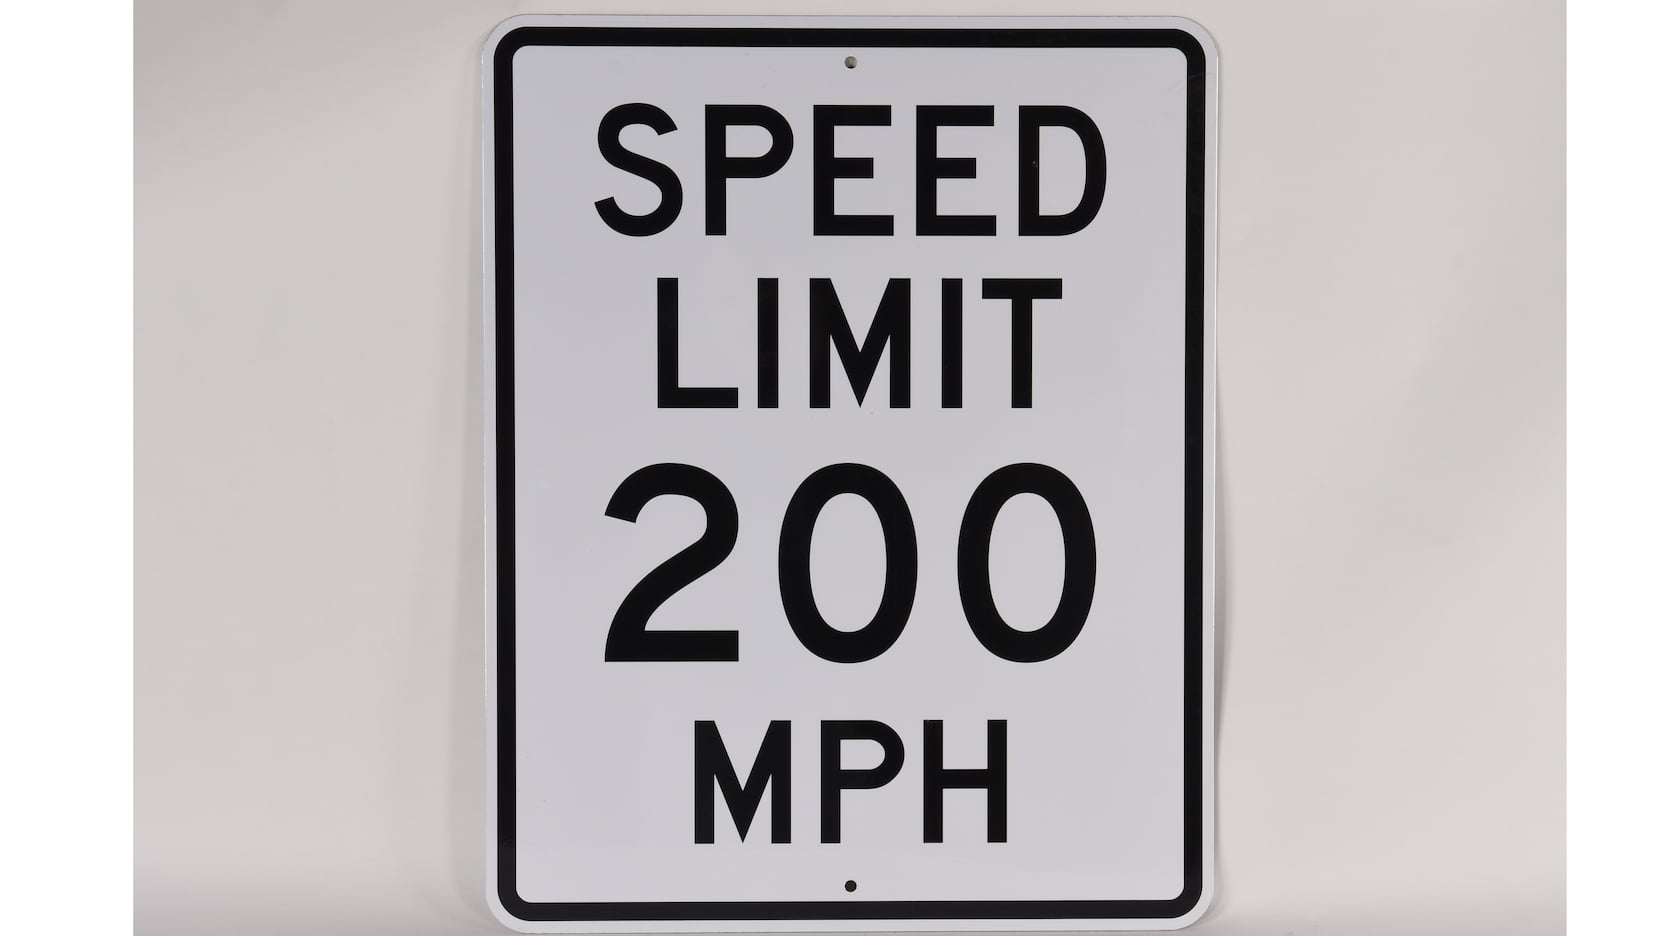speed limit: (478, 24, 1255, 931)
